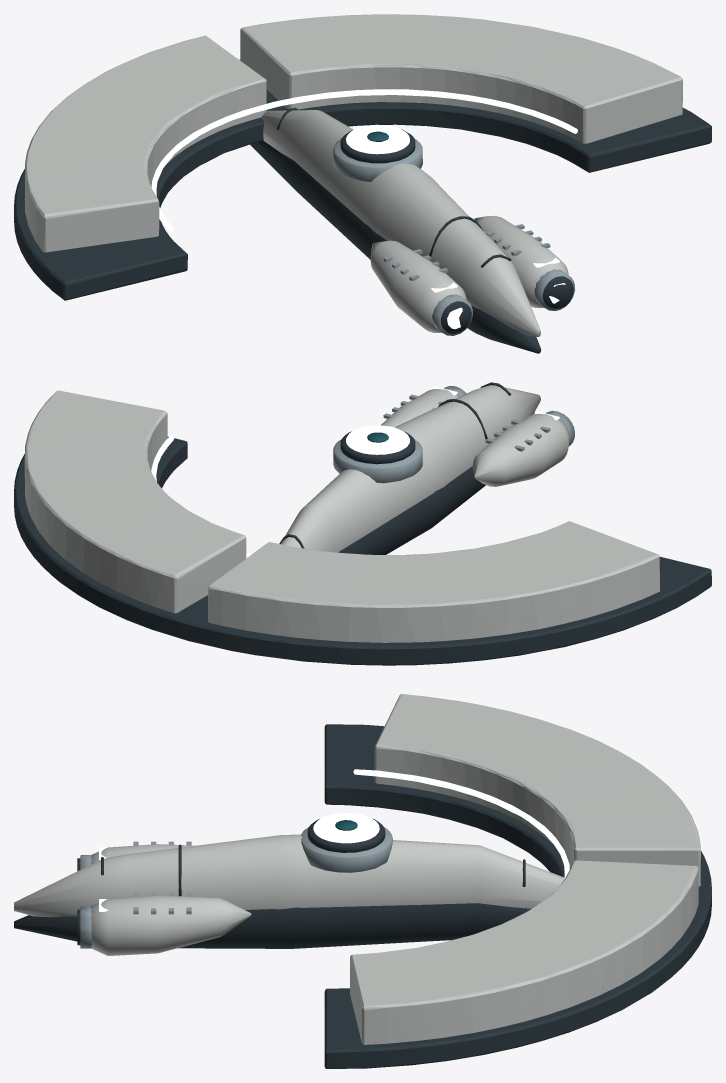
Rendered from enemy-4.glb.
3 views of the same model, one above another, from view 1: azimuth 30°, elevation 25°; view 2: azimuth 150°, elevation 25°; view 3: azimuth 270°, elevation 25° (orthographic). The views are drawn at different scales.
Parts seen in each view (by area): view 1: SM_Hull; view 2: SM_Hull; view 3: SM_Hull.
Boxes of the visible parts, x1,y1,x2,y2 form: SM_Hull: (14, 14, 711, 353); SM_Hull: (14, 382, 711, 665); SM_Hull: (14, 694, 711, 1068).
Size of the model in its own units: 6.99 by 1.2 by 6.3.
